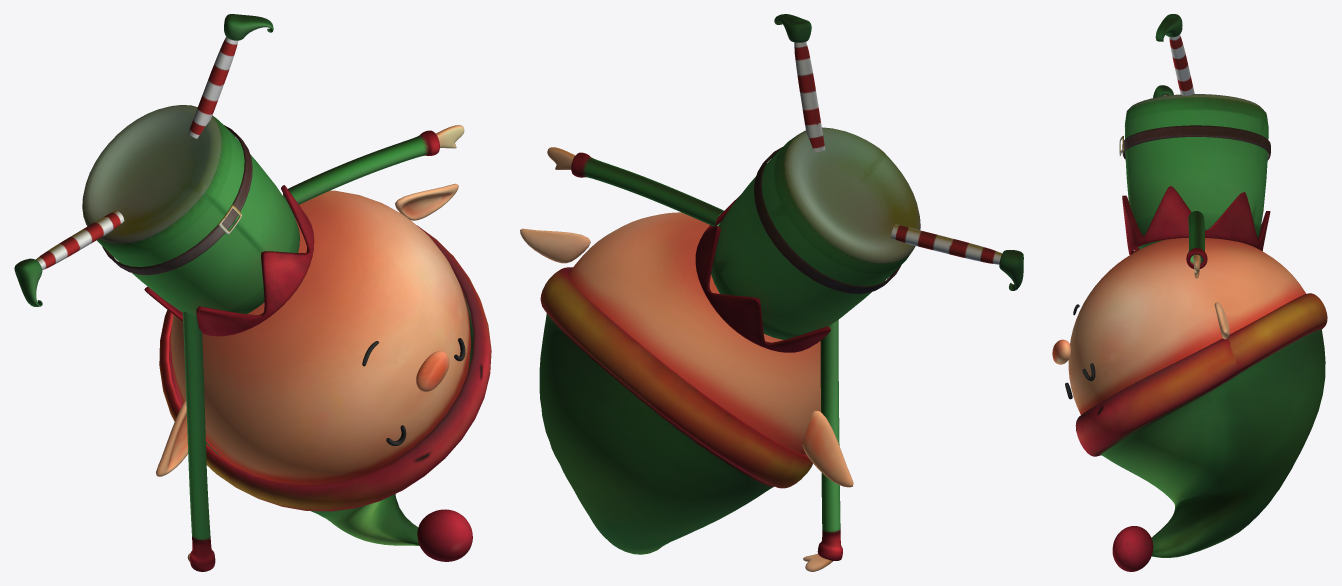
The model's file is outa.glb.
The picture shows the model from 3 angles, left to right: view 1: azimuth 30°, elevation 25°; view 2: azimuth 150°, elevation 25°; view 3: azimuth 270°, elevation 25°; orthographic projection. The views are drawn at different scales.
Parts seen in each view (by area): view 1: _AR_Pose_2:Group55; view 2: _AR_Pose_2:Group55; view 3: _AR_Pose_2:Group55.
Boxes of the visible parts, x1,y1,x2,y2 form: _AR_Pose_2:Group55: (14,14,491,571); _AR_Pose_2:Group55: (520,14,1023,571); _AR_Pose_2:Group55: (1052,14,1327,571).
Bounding box in the file's own units: 1.07 × 1.23 × 0.6409.
1 material, 1 textured.
